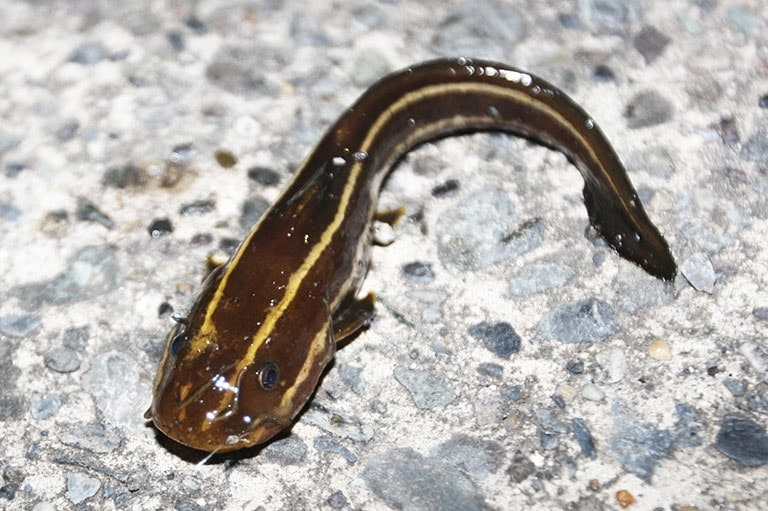gonzui: (114, 19, 718, 481)
